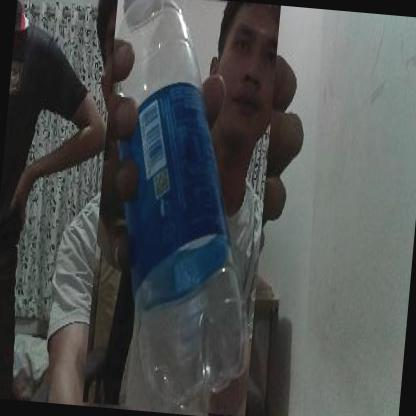plastic_bottles: (116, 0, 249, 409)
